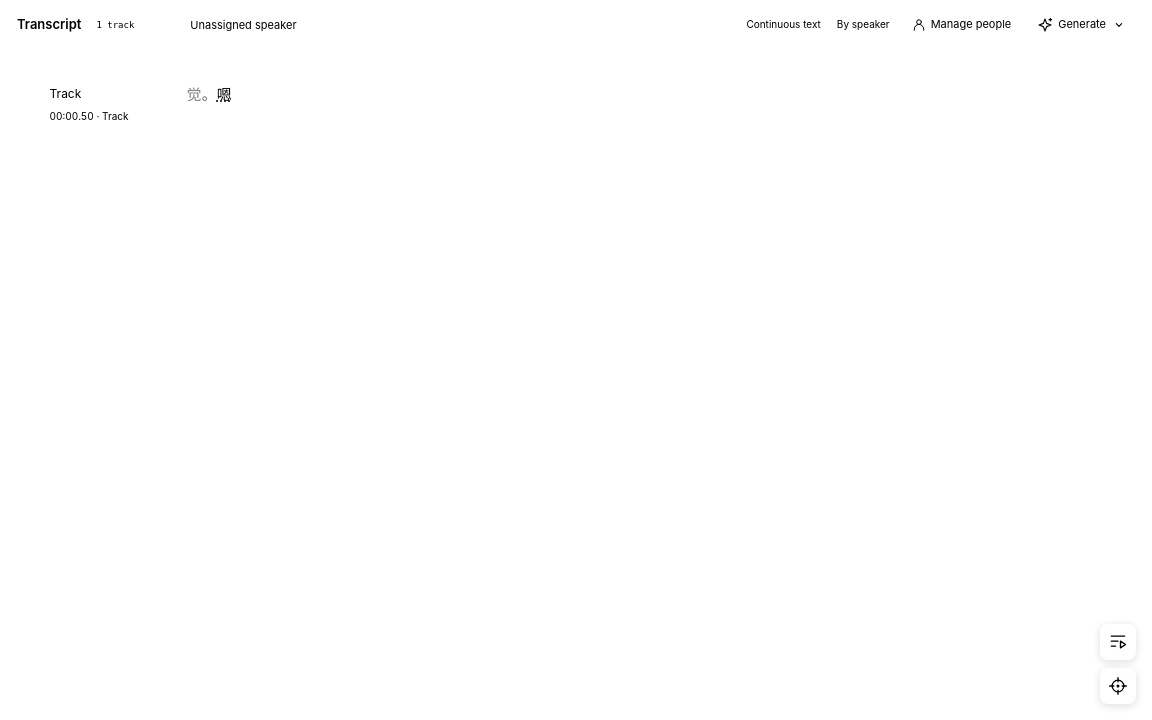
Scenario: canonical transcript editability › filters unassigned speech explicitly and distinguishes all hidden from an empty timeline
Expected: the text box labelled "觉" is shown, [186,82,202,107]
Click the button with aria-label "Show Unassigned speaker" at (236, 24), box [170,12,302,36]
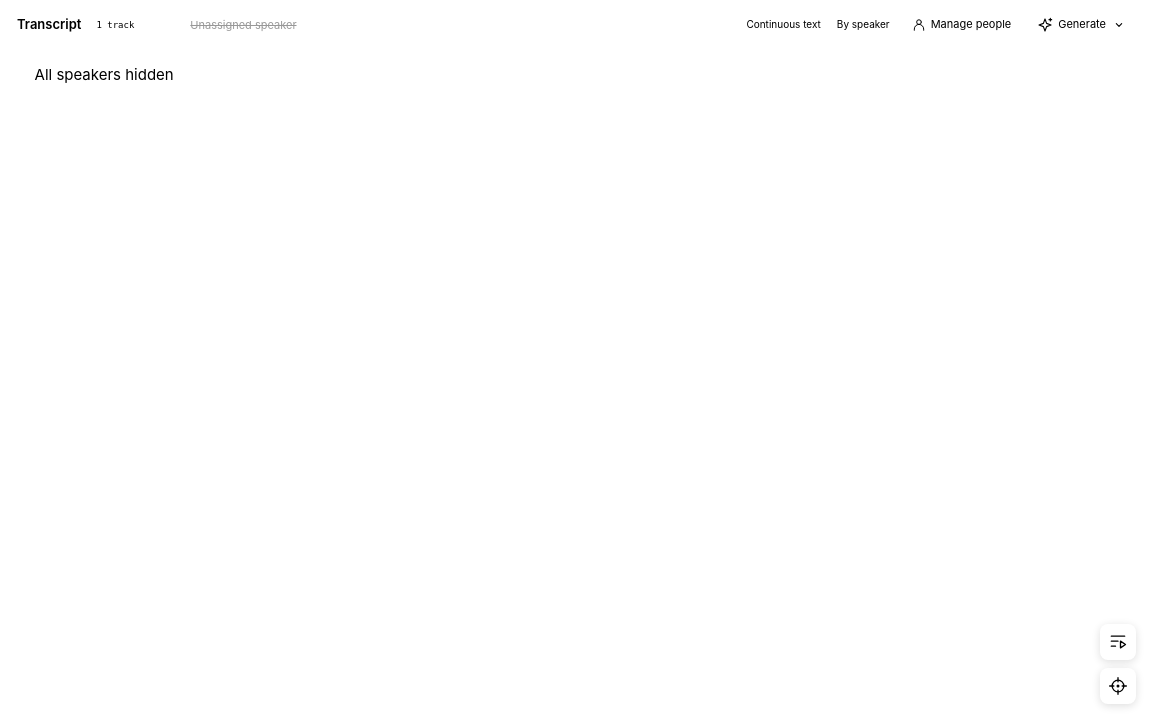
Expected: the text box "All speakers hidden" is shown, [34,65,174,84]
Click the button with aria-label "Show Unassigned speaker" at (236, 24), box [170,12,302,36]
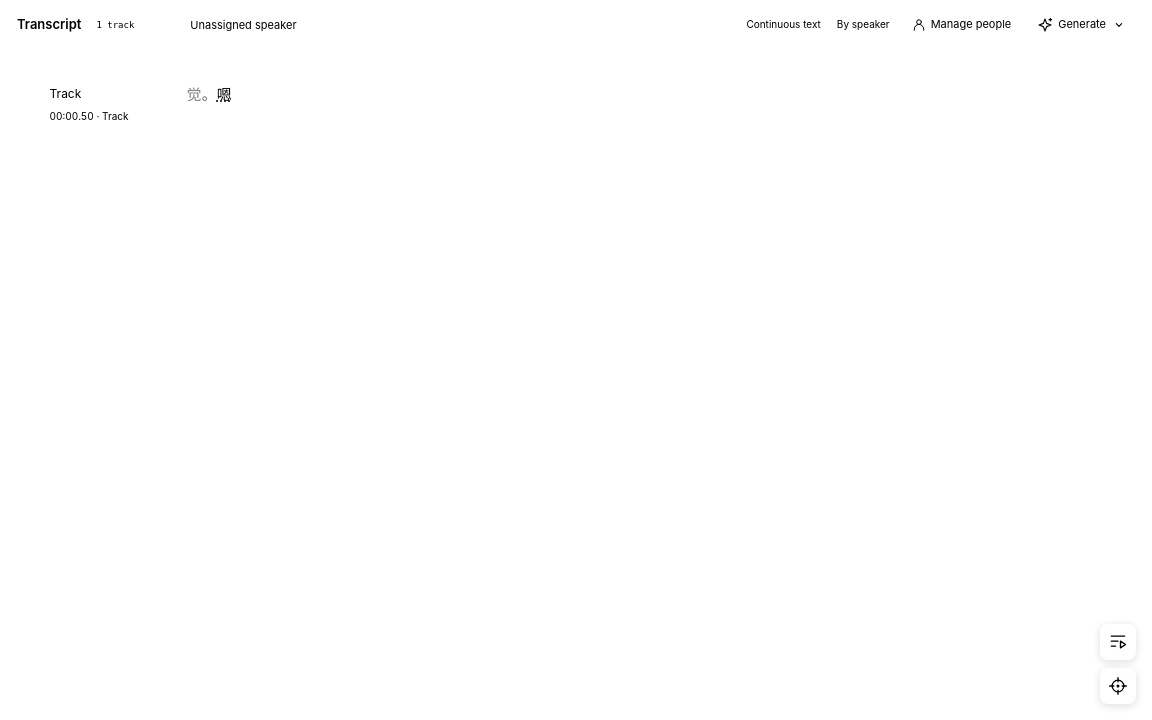
Expected: the text box labelled "觉" is shown, [186,82,202,107]
